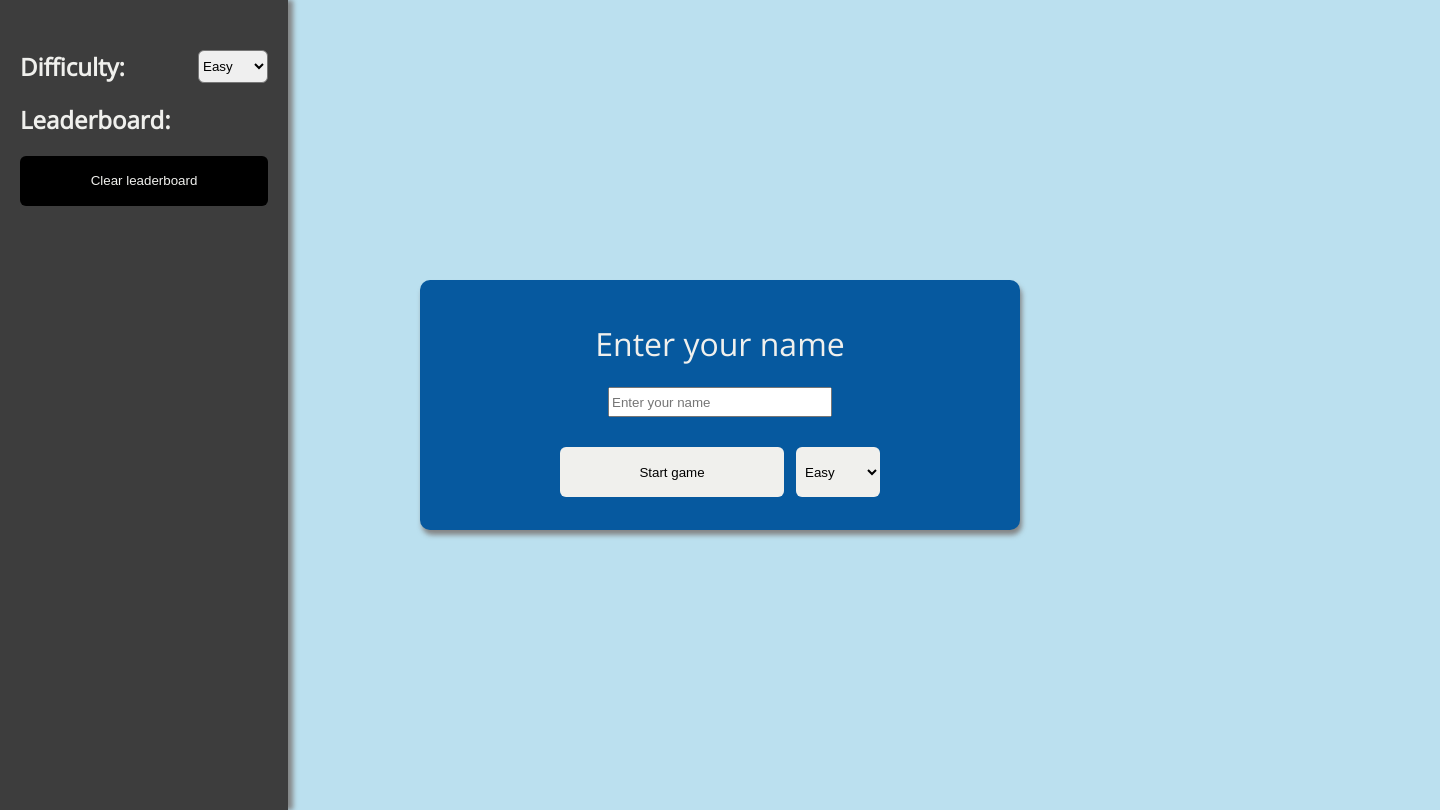
Test: player name appears in leaderboard after round finishes
The width and height of the screenshot is (1440, 810).
Type "Jim" into the field with placeholder "Enter your name".
click(720, 402); type("Jim")  # box [608, 387, 832, 417]
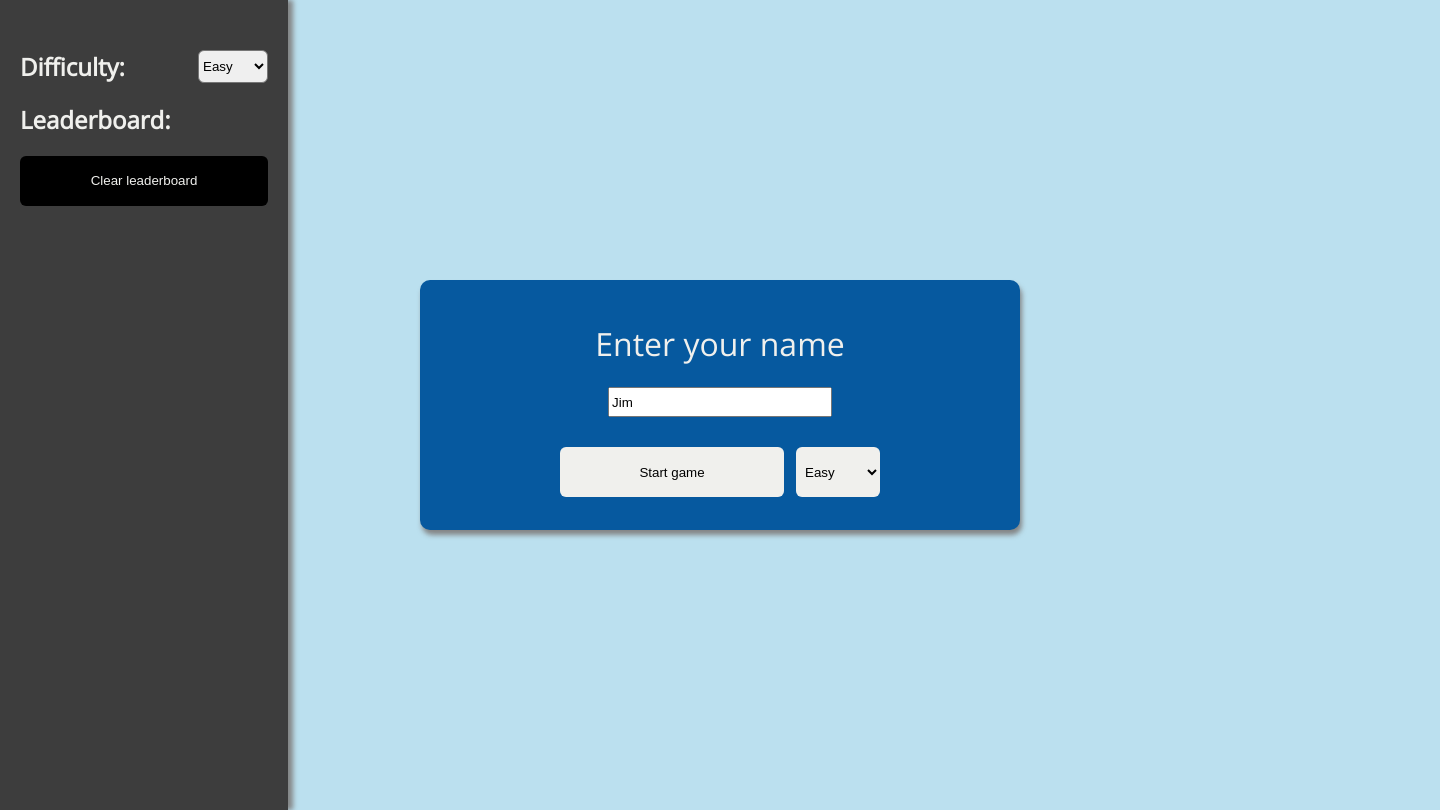
Click the button "Start game".
click(672, 472)  # box [560, 447, 784, 497]
Wait 7000 ms
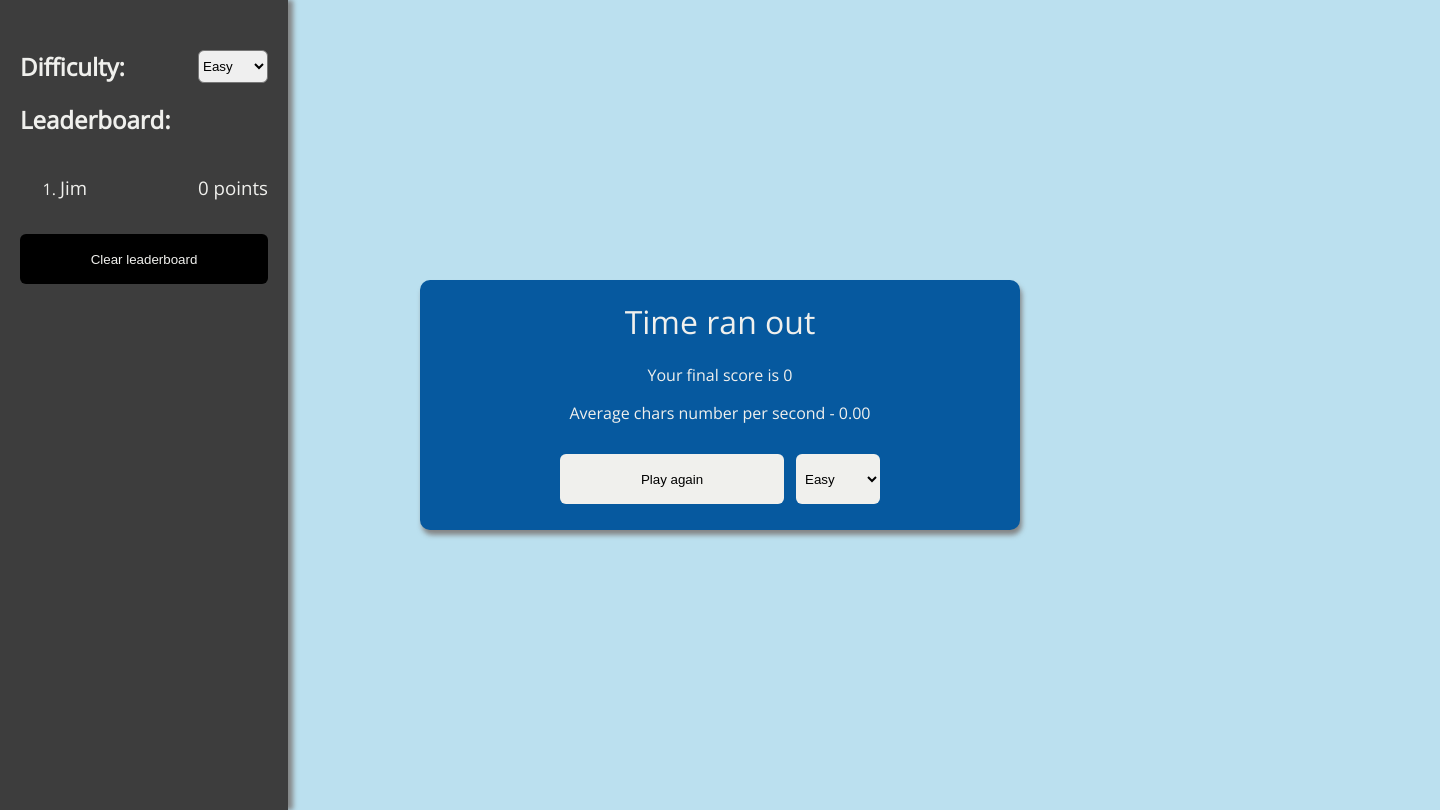
Now the heading "Jim" is shown, box [60, 174, 87, 200]
